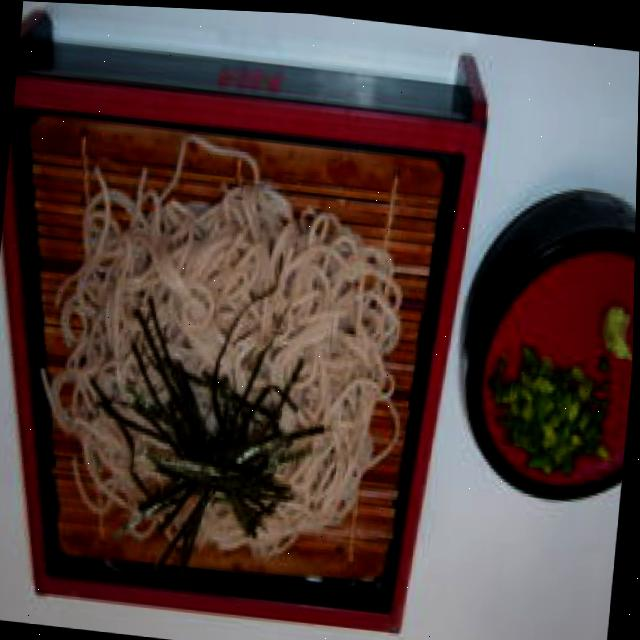面条主食: (0, 2, 508, 640)
